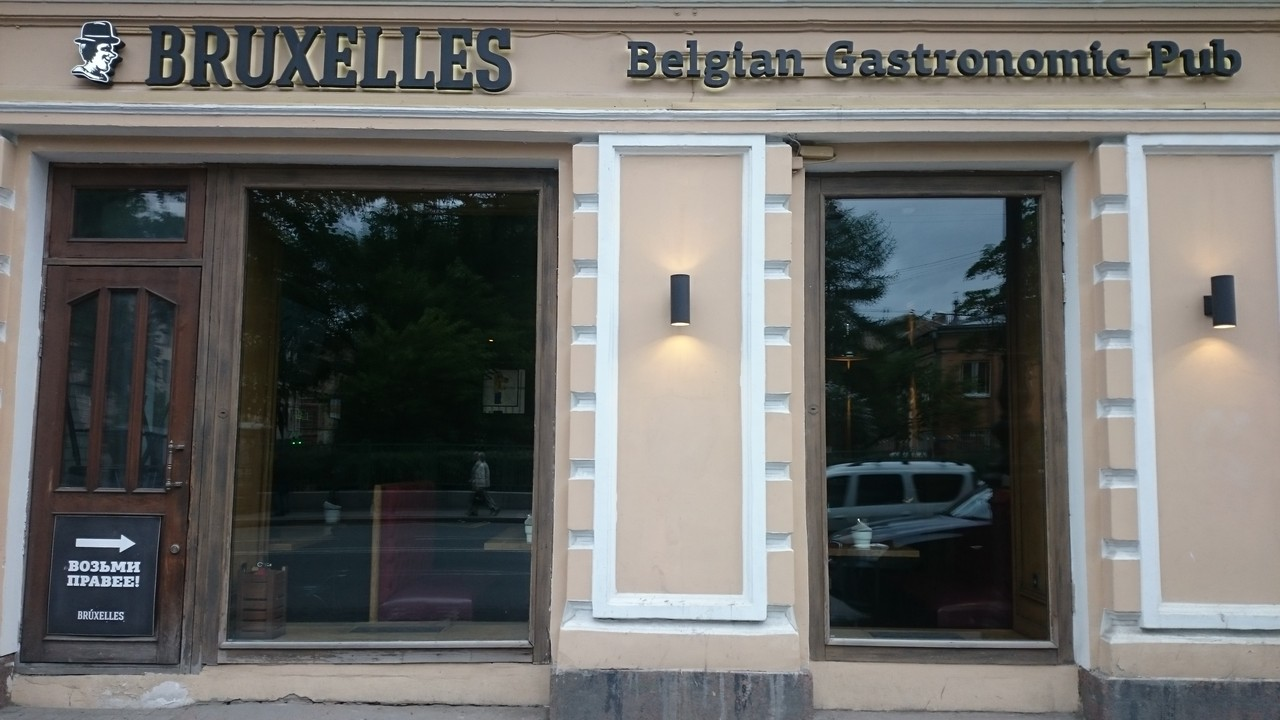door: (18, 267, 201, 666)
signboard: (67, 14, 515, 93), (626, 35, 1244, 83)
window: (219, 171, 556, 662), (804, 172, 1073, 663)
